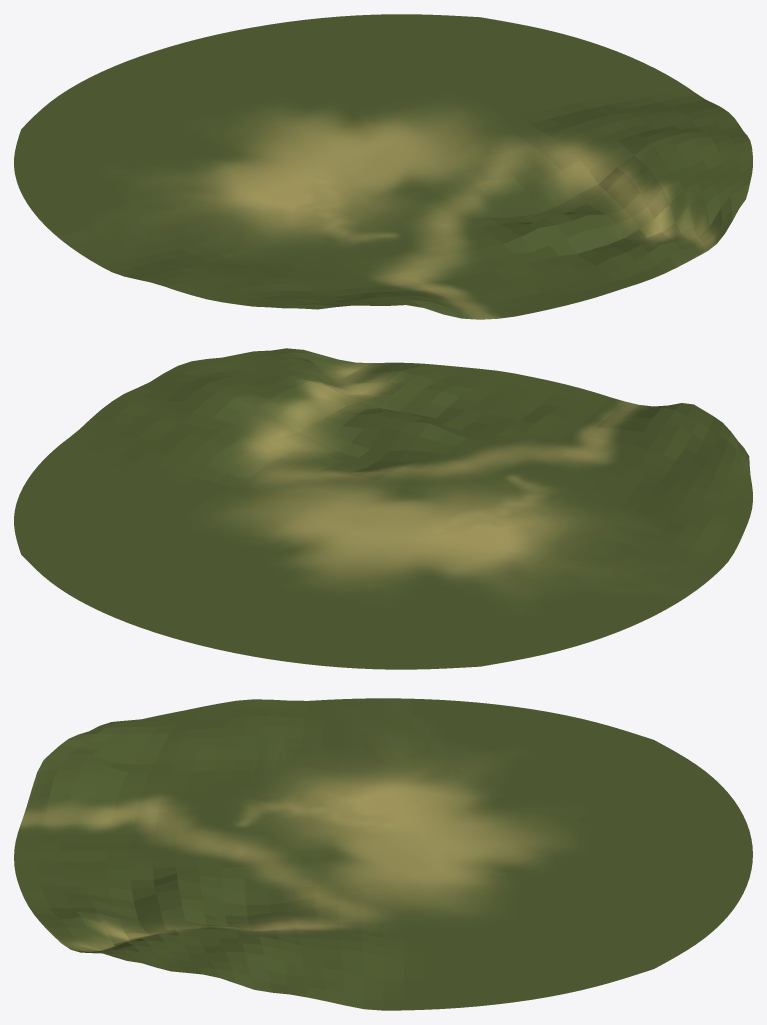
File: ground.gltf
3 views of the same model, one above another, from view 1: azimuth 30°, elevation 25°; view 2: azimuth 150°, elevation 25°; view 3: azimuth 270°, elevation 25° (orthographic). The views are drawn at different scales.
Parts seen in each view (by area): view 1: Plane; view 2: Plane; view 3: Plane.
Boxes of the visible parts, x1=… form: Plane: x1=14, y1=14, x2=752, y2=319; Plane: x1=14, y1=348, x2=752, y2=669; Plane: x1=14, y1=698, x2=752, y2=1010.
Size of the model in its own units: 236 by 14 by 236.
1 material, 1 textured.
